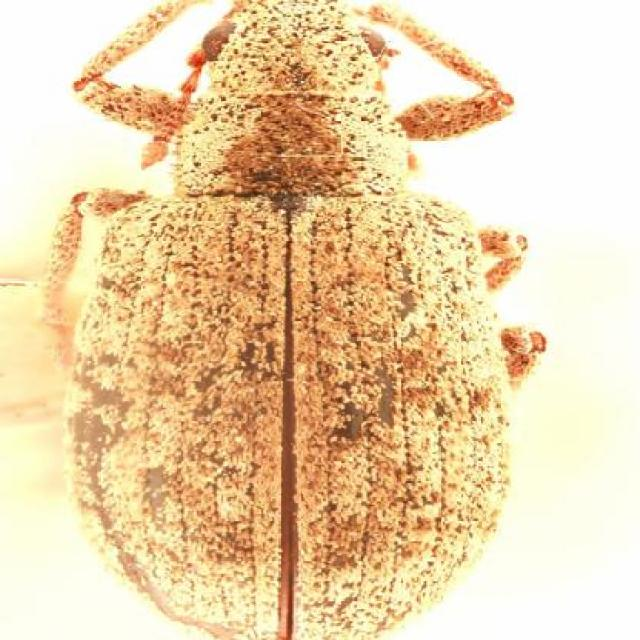rice-bug: (42, 0, 550, 640)
